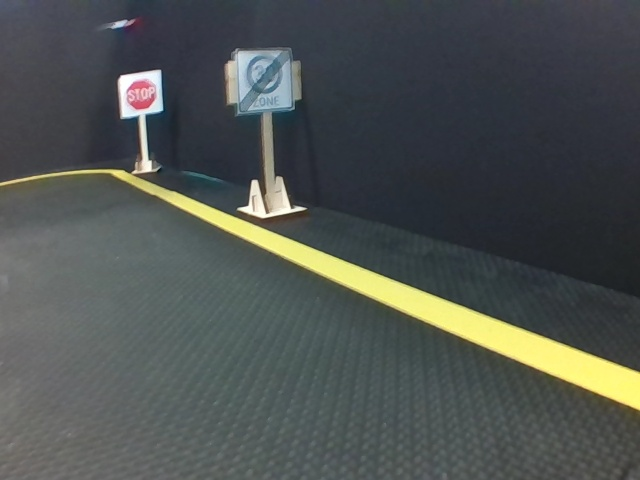no30: (235, 49, 293, 109)
stop: (121, 73, 163, 113)
